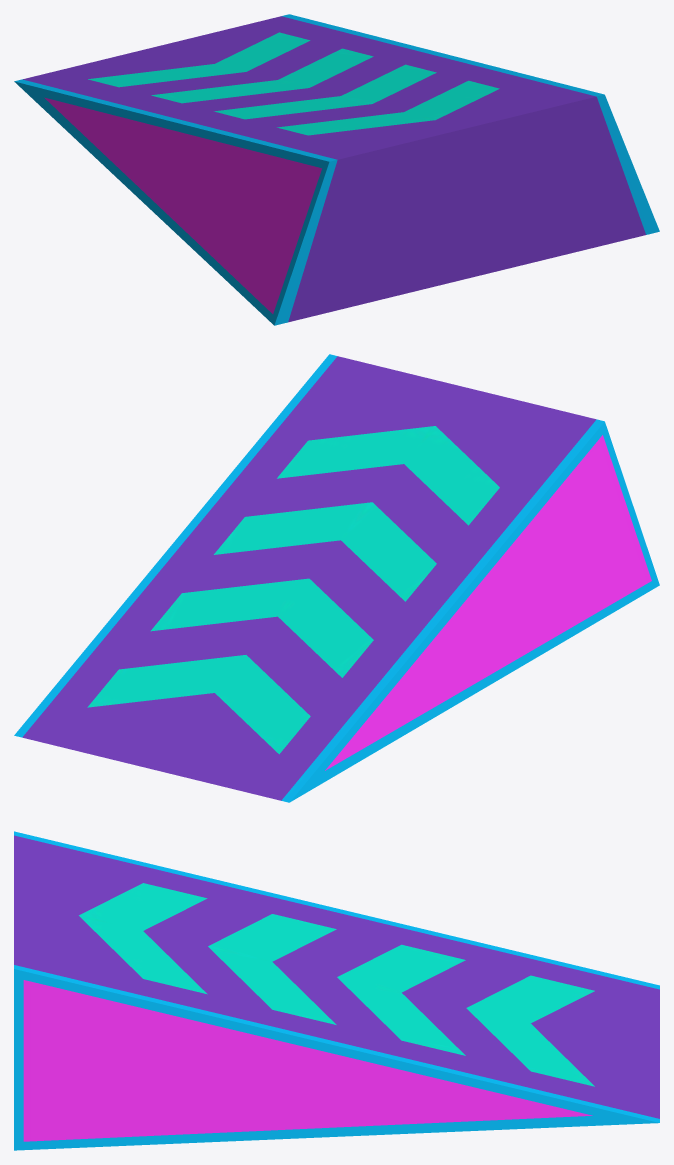
File: Accelerator_1.FBX
3 views of the same model, one above another, from view 1: azimuth 30°, elevation 25°; view 2: azimuth 150°, elevation 25°; view 3: azimuth 270°, elevation 25° (orthographic). The views are drawn at different scales.
Visible parts, largest first — view 1: Accelerator_1, Accelerator_2; view 2: Accelerator_1, Accelerator_2; view 3: Accelerator_1, Accelerator_2.
Part boxes in pixels (x1,y1,x2,y2): Accelerator_1: [14, 14, 659, 325]; Accelerator_2: [88, 32, 499, 135]; Accelerator_1: [14, 354, 659, 802]; Accelerator_2: [87, 426, 499, 754]; Accelerator_1: [14, 831, 659, 1150]; Accelerator_2: [79, 883, 594, 1086].
Bounding box in the file's own units: 2.4 × 0.8943 × 3.4.
